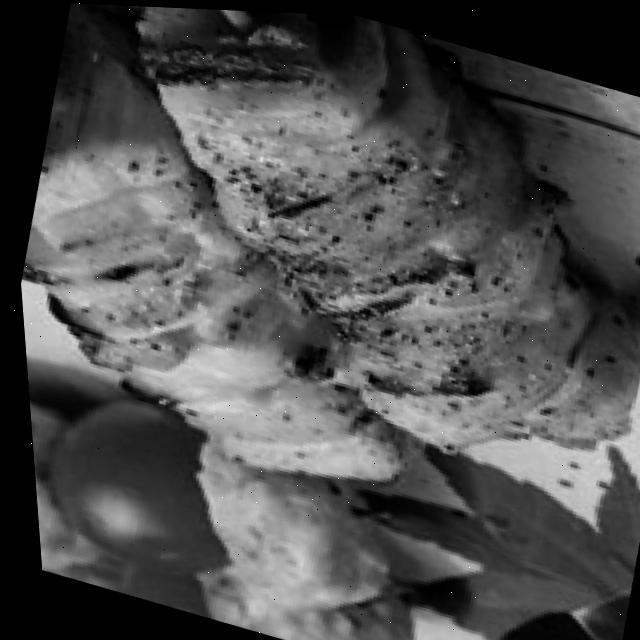烧串烤肉: (0, 0, 640, 581)
